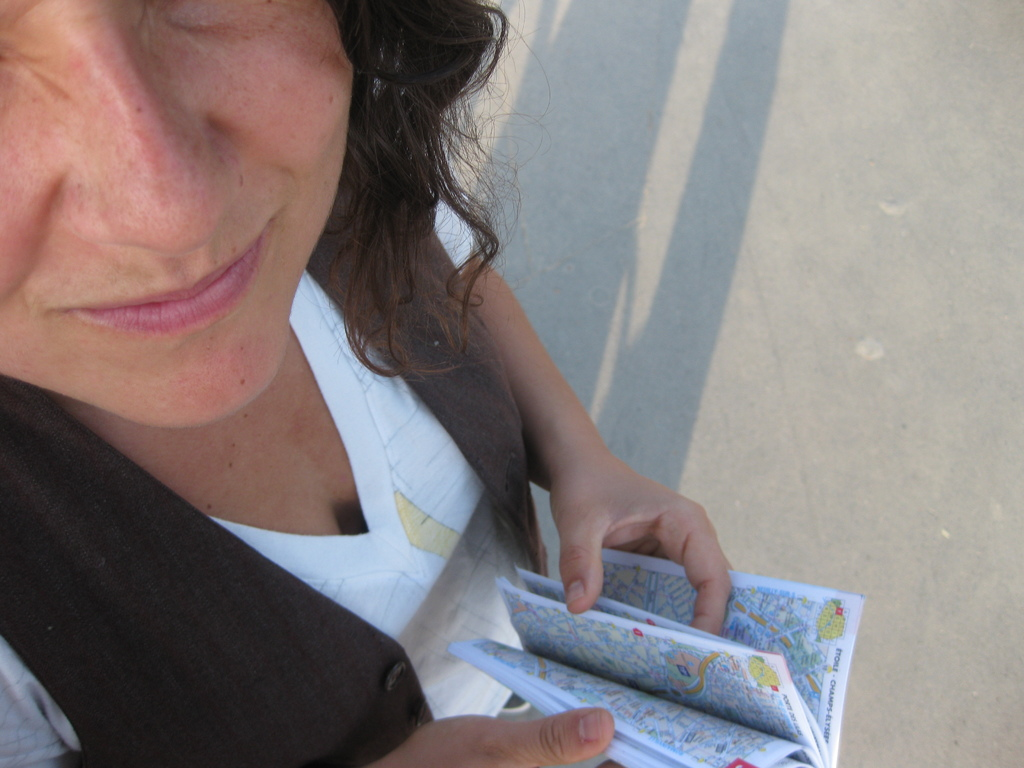Human_hand: (550, 458, 734, 646), (351, 709, 615, 767)
